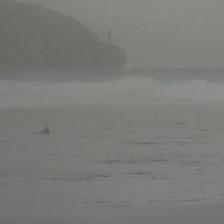surfer: (38, 127, 51, 136)
